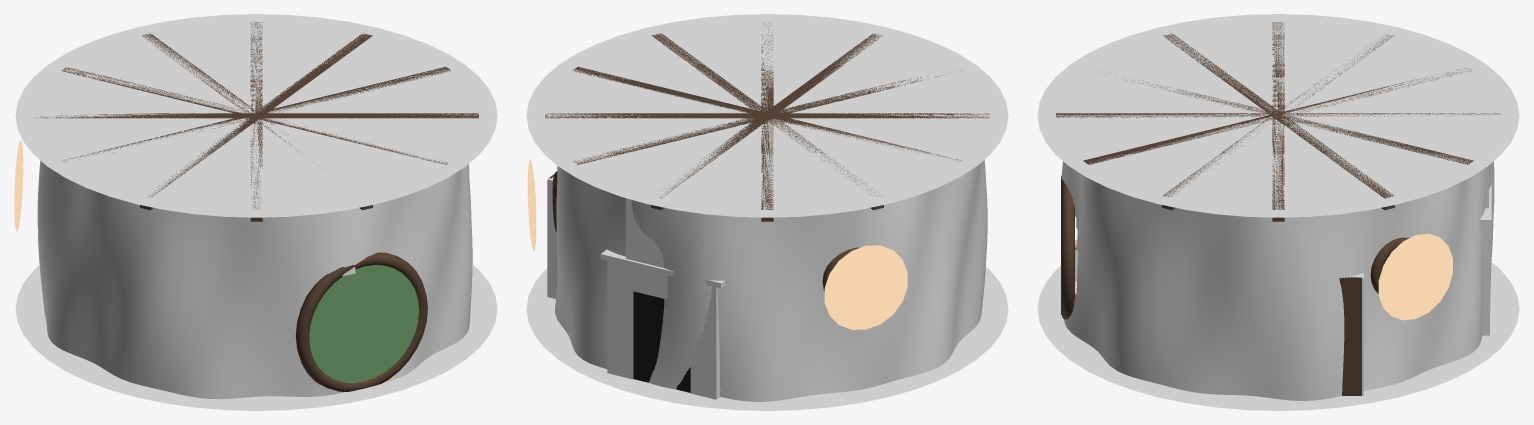
The model's file is gnomos.glb.
3 renders of one model, left to right at view 1: azimuth 30°, elevation 25°; view 2: azimuth 150°, elevation 25°; view 3: azimuth 270°, elevation 25°, orthographic.
Visible parts, largest first — view 1: techo, pared, piso, I_puerta, marco, viga5, viga1, viga0, viga4, viga2, viga3, hogar (+1 smaller); view 2: techo, pared, hogar, piso, cielo_v1, viga1, viga3, viga0, viga2, viga4, viga5, biblioteca (+1 smaller); view 3: techo, pared, piso, cielo_v0, biblioteca, viga1, viga0, viga4, marco, viga2, viga3, hogar (+2 smaller).
Part boxes in pixels (x1,y1,x2,y2): techo: (15,14,497,217); pared: (37,160,472,399); piso: (15,265,497,410); I_puerta: (309,265,419,382); marco: (295,252,427,391); viga5: (34,113,478,118); viga1: (140,33,372,210); viga0: (63,66,450,161); viga4: (62,67,447,164); viga2: (250,22,262,221); viga3: (142,33,372,210); hogar: (116,30,205,59); techo: (526,14,1008,217); pared: (555,160,987,401); hogar: (600,175,724,399); piso: (526,267,1008,410); cielo_v1: (824,245,907,329); viga1: (545,113,989,118); viga3: (651,33,881,210); viga0: (572,66,961,161); viga2: (574,70,953,164); viga4: (761,22,773,221); viga5: (651,33,883,210); biblioteca: (547,174,557,298); techo: (1037,14,1519,217); pared: (1061,161,1494,400); piso: (1037,262,1519,410); cielo_v0: (1378,233,1452,320); biblioteca: (1339,273,1363,395); viga1: (1163,33,1394,210); viga0: (1272,22,1284,221); viga4: (1083,68,1471,164); marco: (1061,176,1074,319); viga2: (1104,76,1473,164); viga3: (1056,113,1500,118); hogar: (1479,165,1491,335).
Size of the model in its own units: 5.2 by 2.35 by 5.2.
